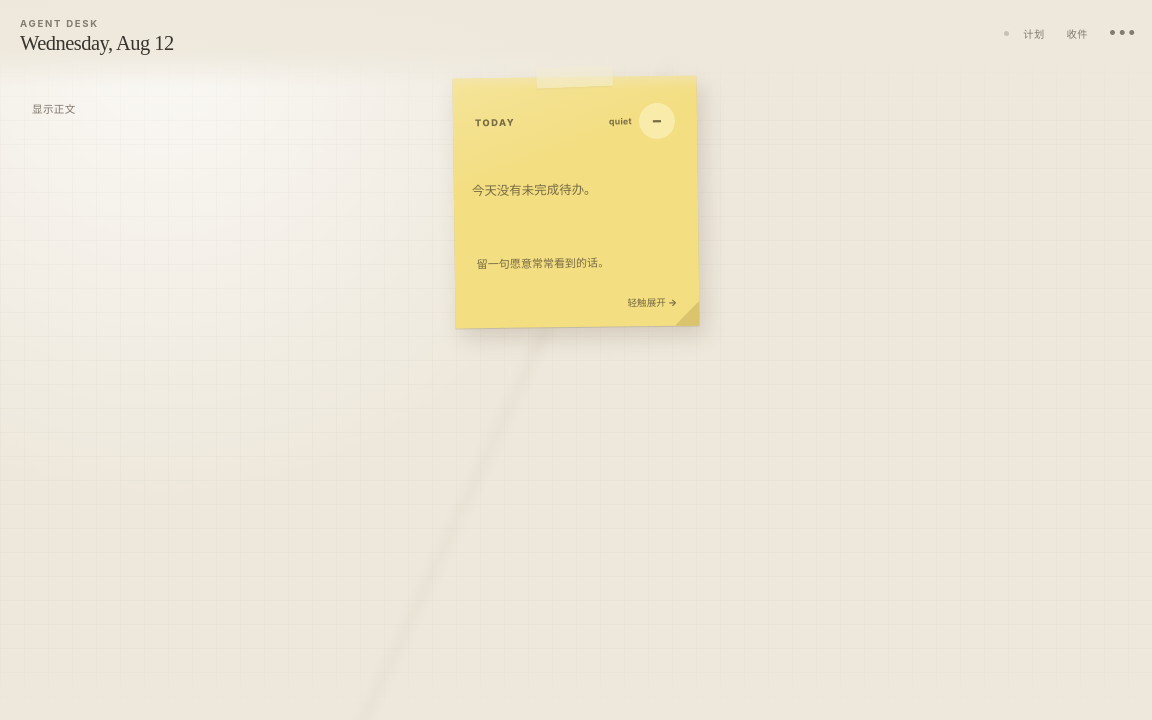
StickyHome M1-B4 › preserves Blank Reader when visiting Inbox and returning with 阅读
The image size is (1152, 720).
Step 1. Click the button with aria-label "打开收件箱" → [1077, 33], box [1059,20,1096,46]
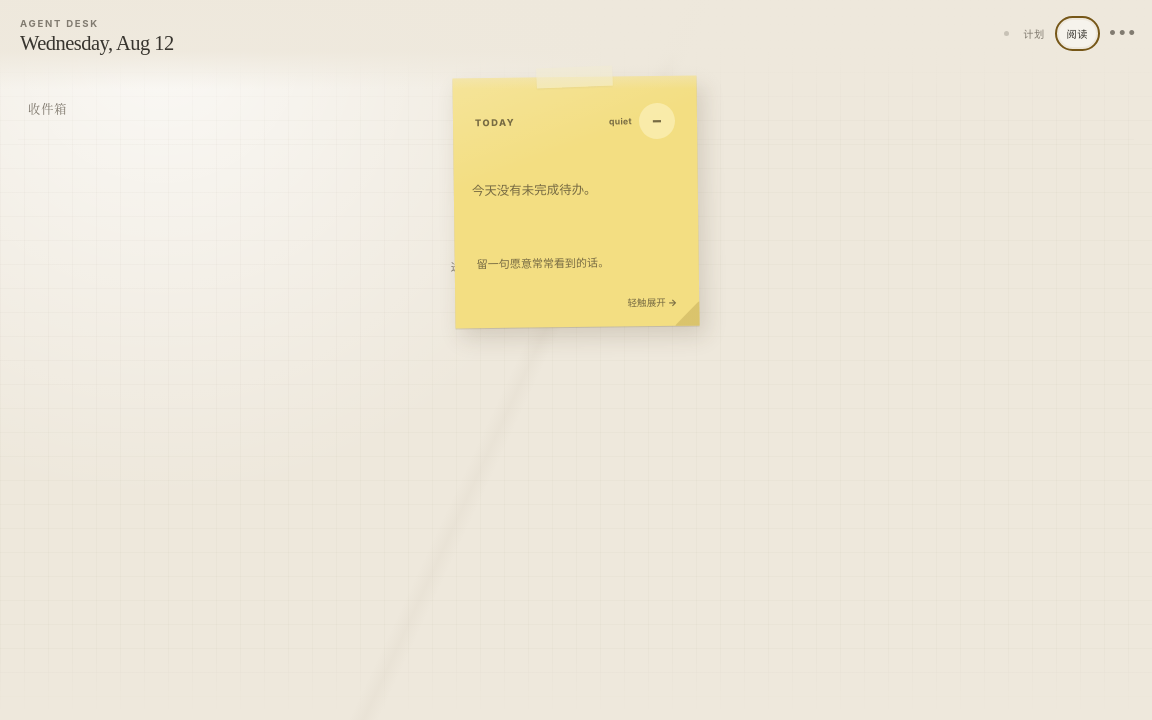
Step 2. Click the button with aria-label "返回阅读" → [1077, 33], box [1059,20,1096,46]
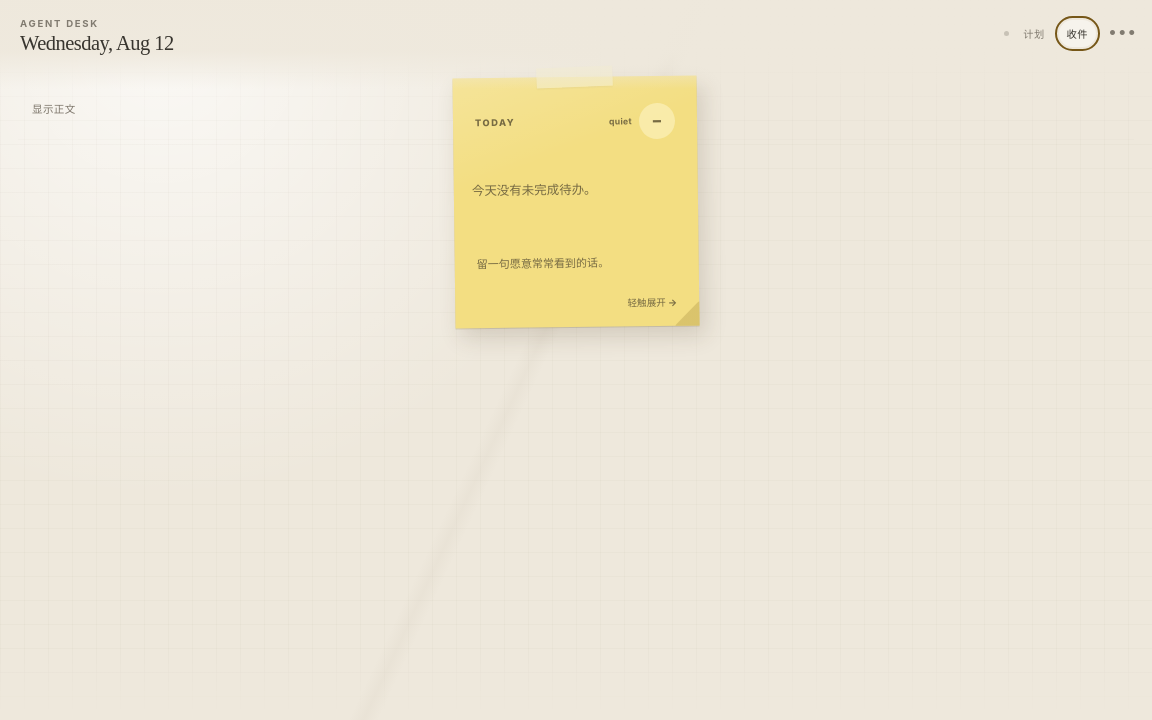
Expected: the button "显示正文" is shown, [28,96,80,120]
